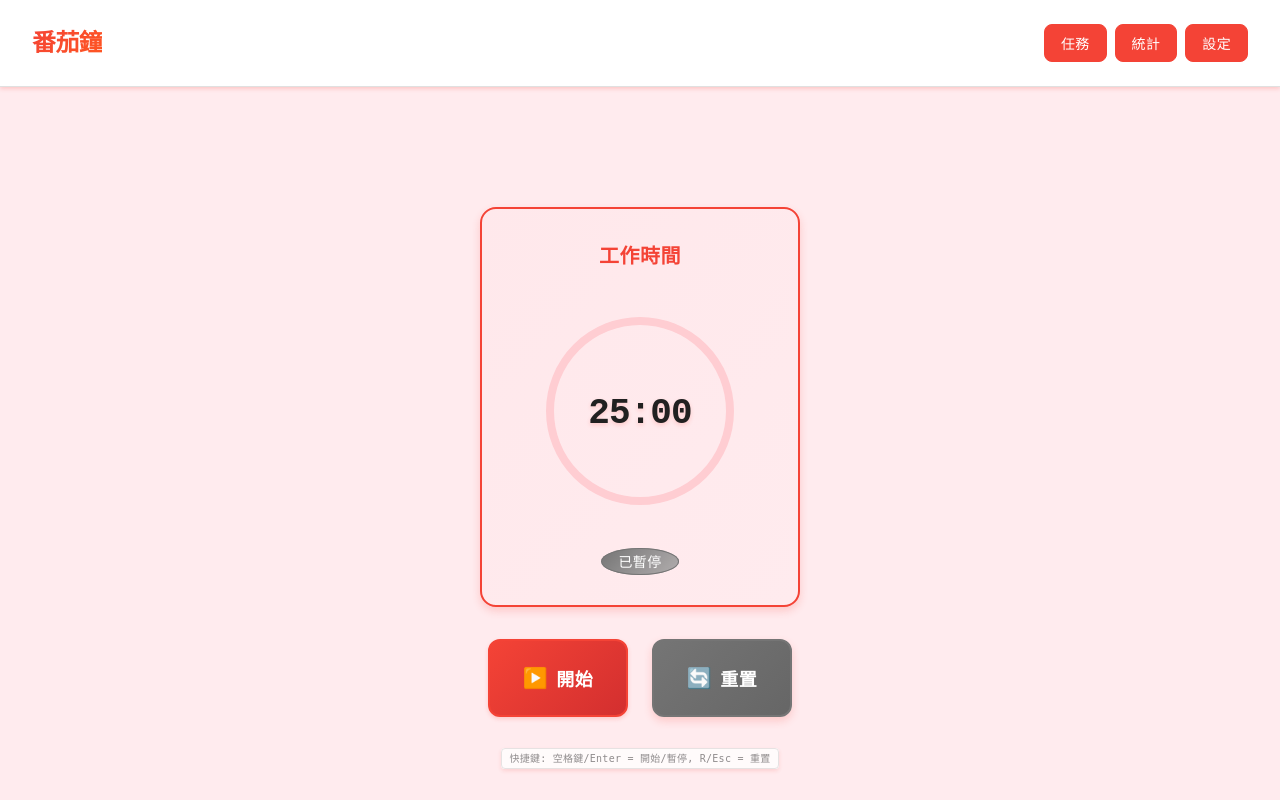
End-to-End Tests - Complete User Workflows › Complete Pomodoro Session Workflow › should complete a full pomodoro work session
Check: the text "25:00" is shown, box [588,387,692,441]
Check: the text "工作時間" is shown, box [599,244,681,268]
# Start the timer
Click the button with aria-label "開始計時器".
click(558, 678)  # box [488,639,628,717]
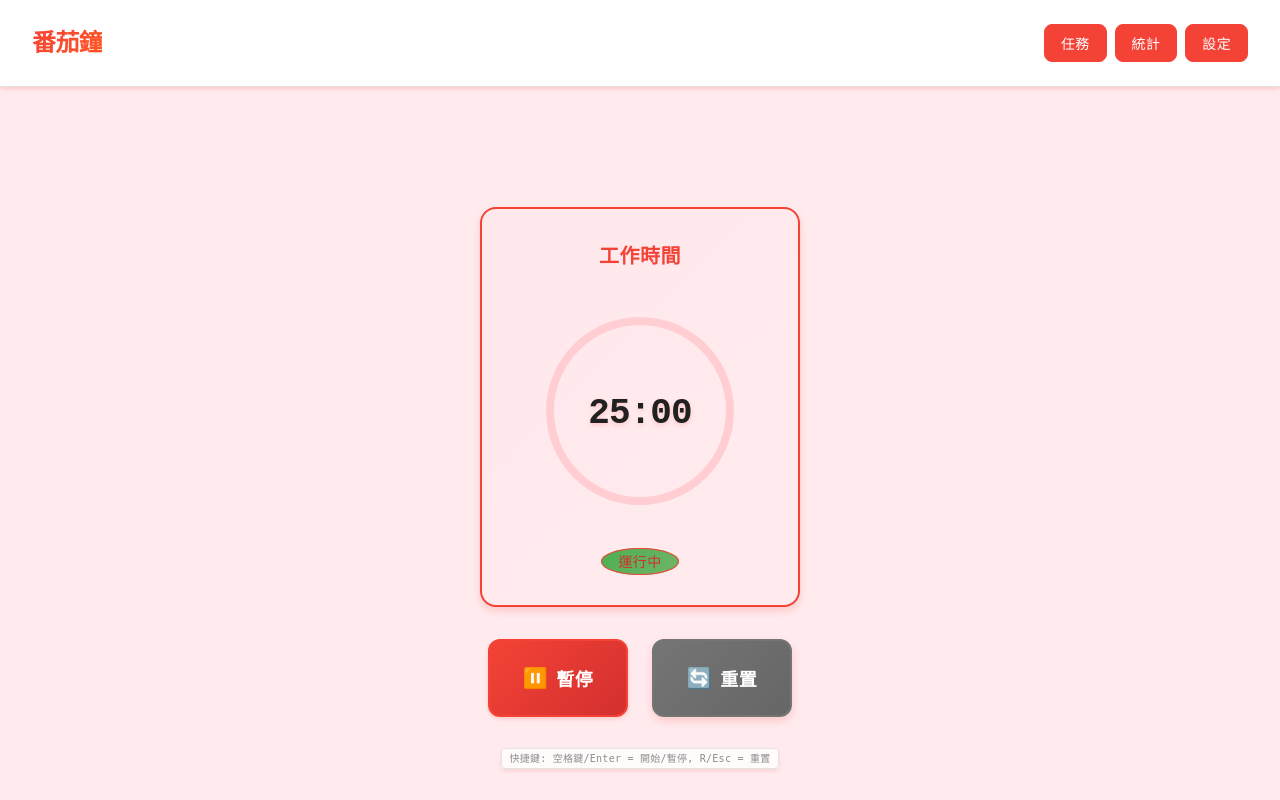
Check: the text "運行中" is shown, box [602,548,679,575]
# Pause the timer
Click the button with aria-label "暫停計時器".
click(558, 678)  # box [488,639,628,717]
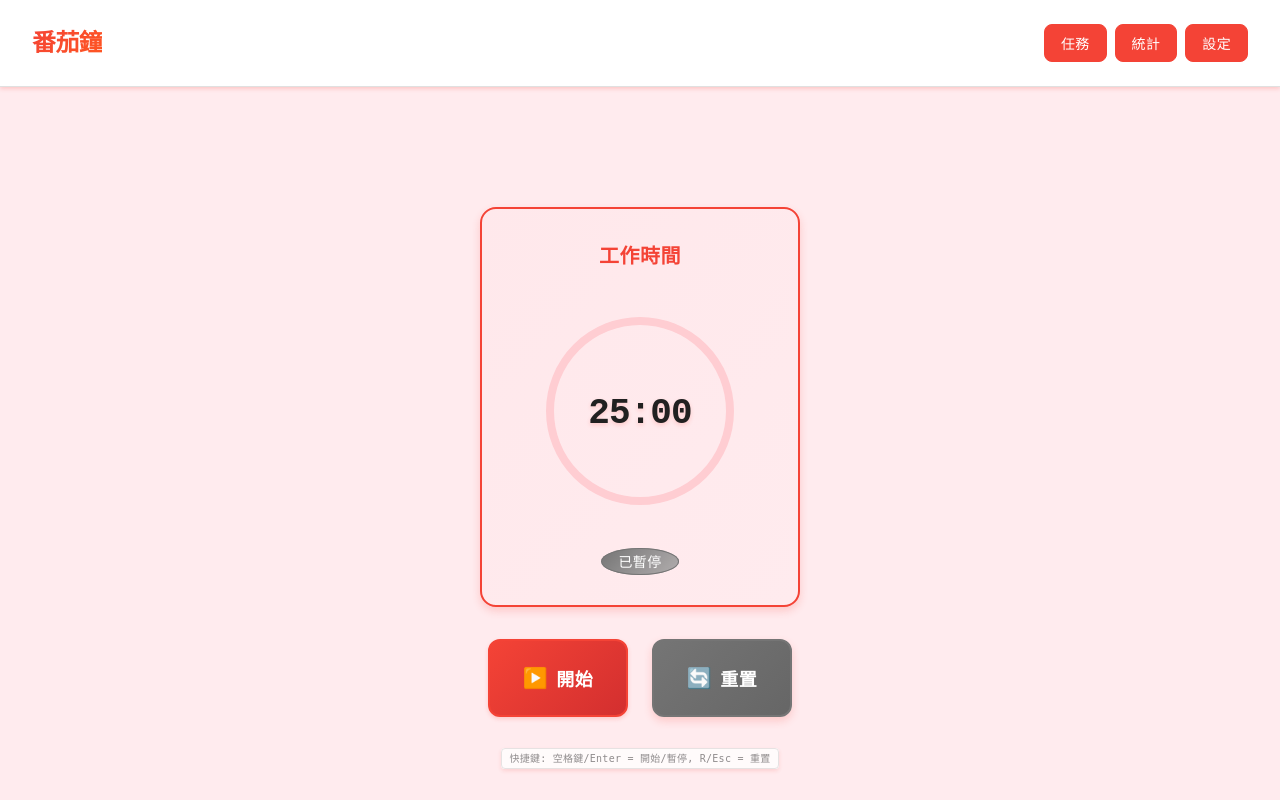
Check: the text "已暫停" is shown, box [602,548,679,575]
# Resume the timer
Click the button with aria-label "開始計時器".
click(558, 678)  # box [488,639,628,717]
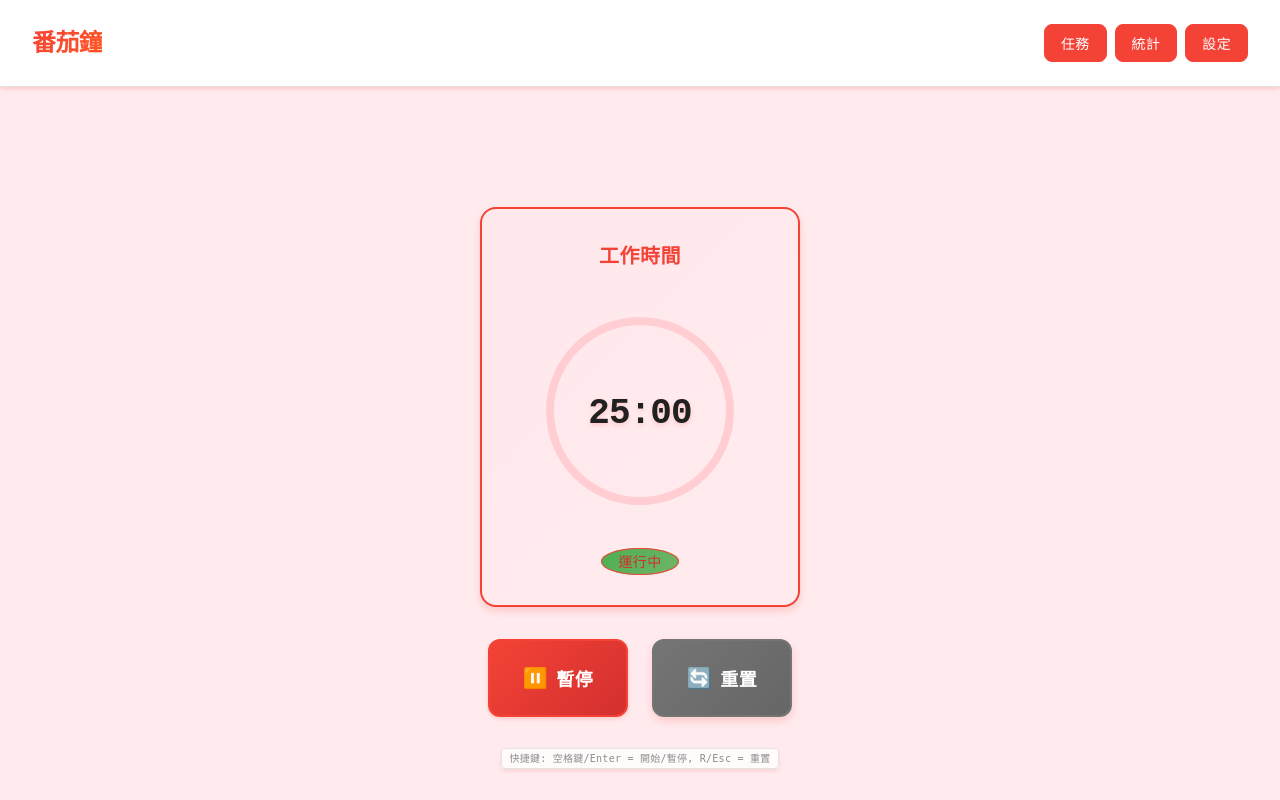
# Reset the timer
Click the button with aria-label "重置計時器".
click(722, 678)  # box [652,639,792,717]
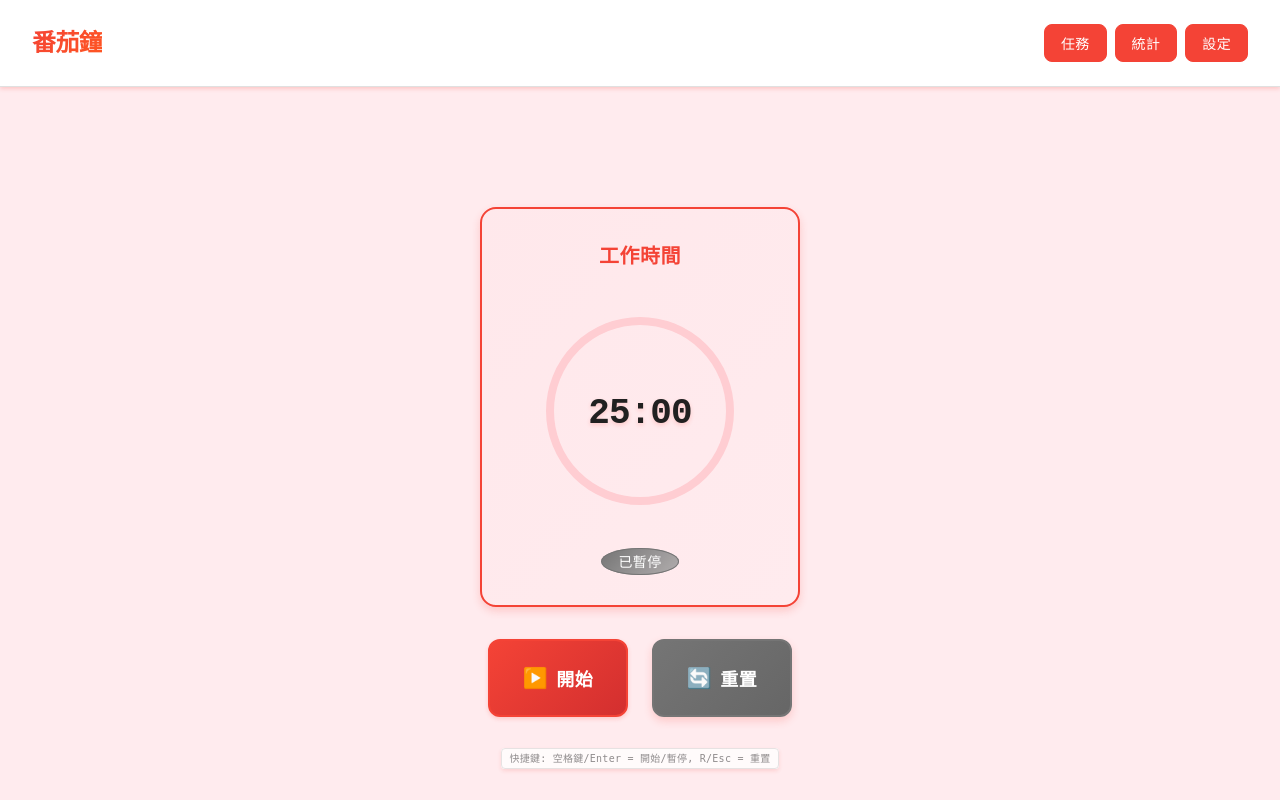
Check: the text "25:00" is shown, box [588,387,692,441]
Check: the text "已暫停" is shown, box [602,548,679,575]
